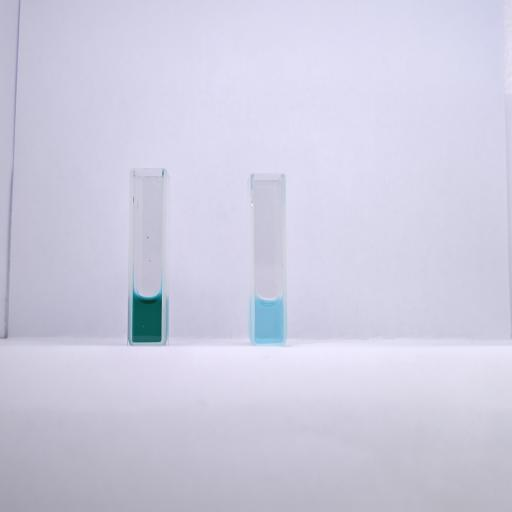cuvette: (126, 167, 168, 349), (248, 172, 288, 348)
liquid: (133, 296, 162, 343), (255, 298, 282, 342)
